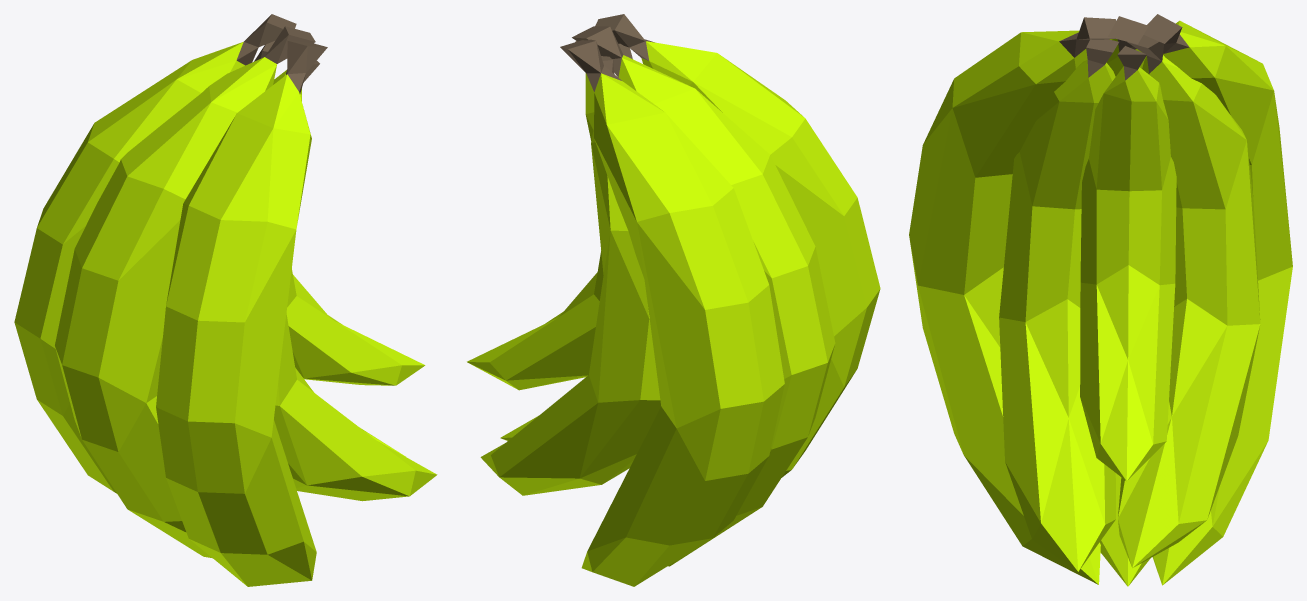
Rendered from Banana Cluster.fbx.
The picture shows the model from 3 angles, left to right: view 1: azimuth 30°, elevation 25°; view 2: azimuth 150°, elevation 25°; view 3: azimuth 270°, elevation 25°; orthographic projection. The views are drawn at different scales.
Visible parts, largest first — view 1: Banana Cluster; view 2: Banana Cluster; view 3: Banana Cluster.
Part boxes in pixels (box(x1,y1,x2,y2)): Banana Cluster: box(14, 14, 437, 586); Banana Cluster: box(467, 14, 880, 586); Banana Cluster: box(909, 14, 1292, 586).
Size of the model in its own units: 11.57 by 16.14 by 9.94.
